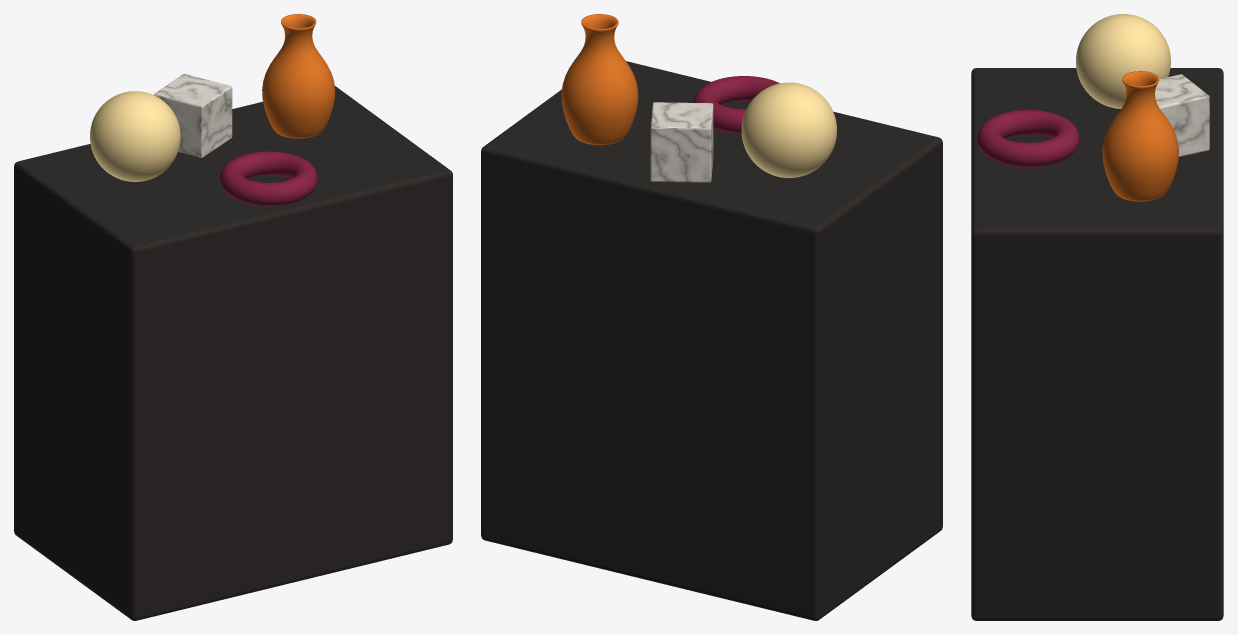
The model's file is stilllife.draco.glb.
3 renders of one model, left to right at view 1: azimuth 30°, elevation 25°; view 2: azimuth 150°, elevation 25°; view 3: azimuth 270°, elevation 25°, orthographic. The views are drawn at different scales.
Parts seen in each view (by area): view 1: Plinth, GoldSphere, OrangeVase, MarbleCube, MaroonTorus; view 2: Plinth, GoldSphere, OrangeVase, MarbleCube, MaroonTorus; view 3: Plinth, OrangeVase, GoldSphere, MaroonTorus, MarbleCube.
Boxes of the visible parts, x1,y1,x2,y2 form: Plinth: [14, 86, 452, 620]; GoldSphere: [90, 91, 180, 181]; OrangeVase: [262, 14, 335, 138]; MarbleCube: [154, 74, 232, 157]; MaroonTorus: [220, 151, 317, 206]; Plinth: [481, 61, 942, 620]; GoldSphere: [741, 82, 836, 177]; OrangeVase: [561, 14, 638, 145]; MarbleCube: [650, 102, 713, 182]; MaroonTorus: [693, 76, 779, 133]; Plinth: [971, 68, 1223, 620]; OrangeVase: [1102, 71, 1178, 201]; GoldSphere: [1076, 14, 1170, 108]; MaroonTorus: [977, 110, 1079, 167]; MarbleCube: [1155, 74, 1209, 156].
Bounding box in the file's own units: 2.7 × 3.87 × 1.75.
5 materials, 1 textured.
